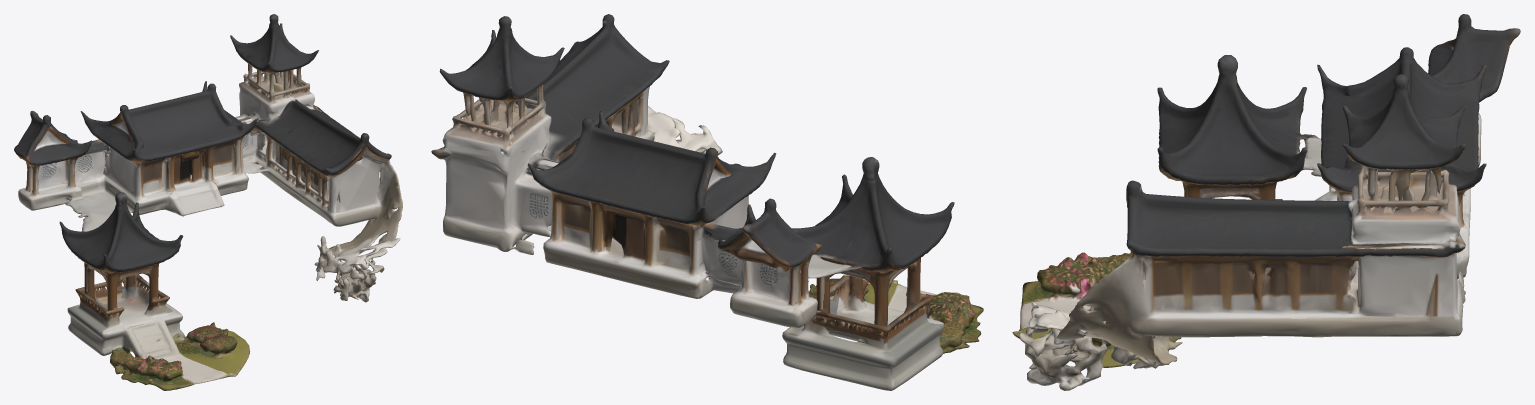
3 views of the same model, side by side, from view 1: azimuth 30°, elevation 25°; view 2: azimuth 150°, elevation 25°; view 3: azimuth 270°, elevation 25° (orthographic). The views are drawn at different scales.
Parts seen in each view (by area): view 1: material.001; view 2: material.001; view 3: material.001.
Boxes of the visible parts, left/top/right/bottom form: material.001: left=14, top=14, right=402, bottom=390; material.001: left=431, top=14, right=983, bottom=390; material.001: left=1012, top=14, right=1520, bottom=390.
Bounding box in the file's own units: 0.8221 × 0.6719 × 0.7963.
Materials: 1 (1 with a texture image).
